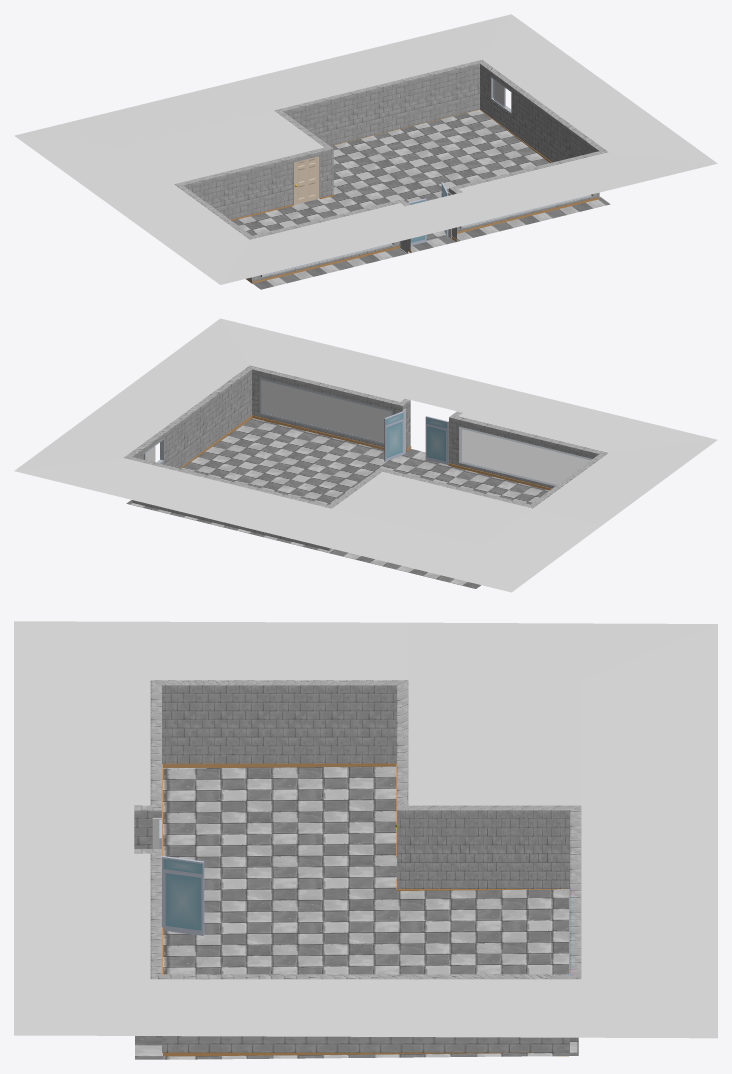
The model's file is Veterinaria.FBX.
The picture shows the model from 3 angles, top to bottom: view 1: azimuth 30°, elevation 25°; view 2: azimuth 150°, elevation 25°; view 3: azimuth 270°, elevation 25°; orthographic projection. The views are drawn at different scales.
Parts seen in each view (by area): view 1: Vacio, Paredes, Piso, Puertas, Ventana; view 2: Vacio, Piso, Paredes, Ventana, Puertas; view 3: Vacio, Piso, Paredes, Puertas.
Boxes of the visible parts, x1,y1,x2,y2 form: Vacio: [14, 14, 717, 284]; Paredes: [174, 59, 607, 283]; Piso: [232, 110, 610, 289]; Puertas: [293, 156, 448, 245]; Ventana: [262, 76, 591, 275]; Vacio: [14, 318, 717, 592]; Piso: [126, 418, 549, 588]; Paredes: [123, 365, 608, 550]; Ventana: [143, 378, 591, 486]; Puertas: [384, 411, 448, 464]; Vacio: [14, 621, 717, 1038]; Piso: [135, 766, 578, 1059]; Paredes: [134, 680, 581, 1056]; Puertas: [159, 819, 396, 935].
Size of the model in its own units: 3230 by 2320 by 306.
